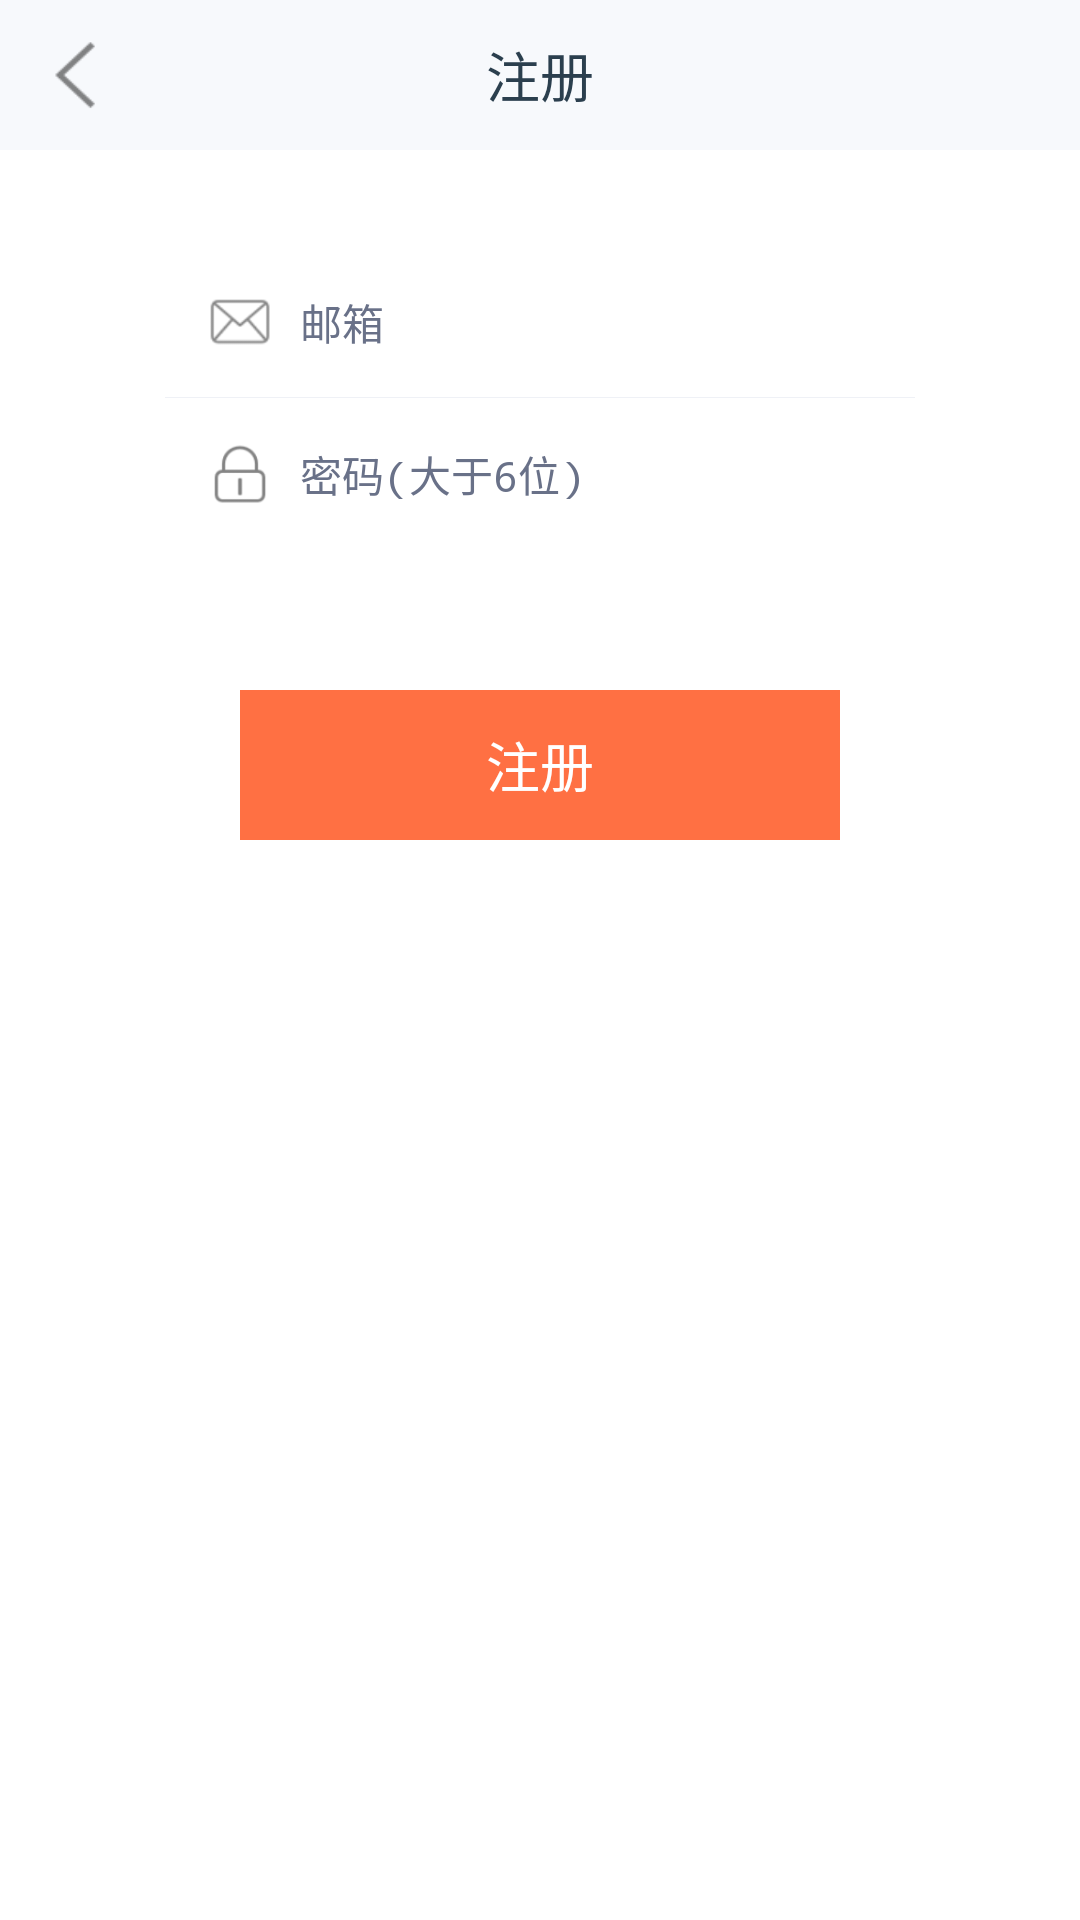

Screen size 1080 × 1920. Icon name, then its center in pixels as (x,y):
back: (75,75)
